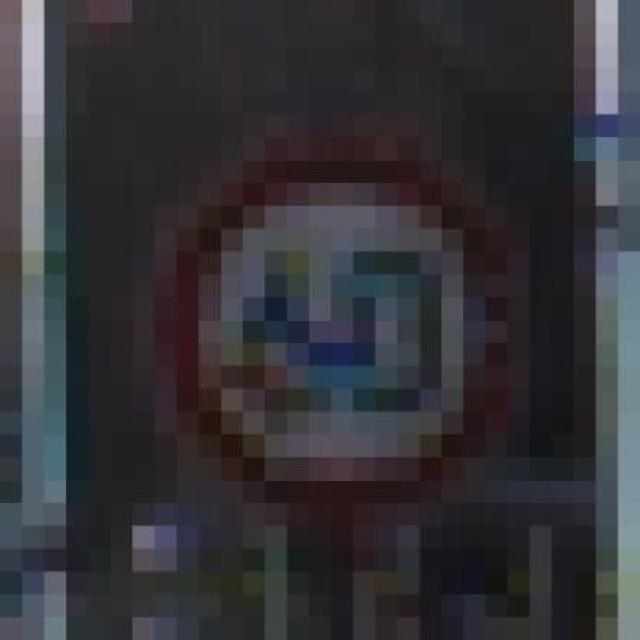forb_speed_over_60: (179, 145, 507, 502)
